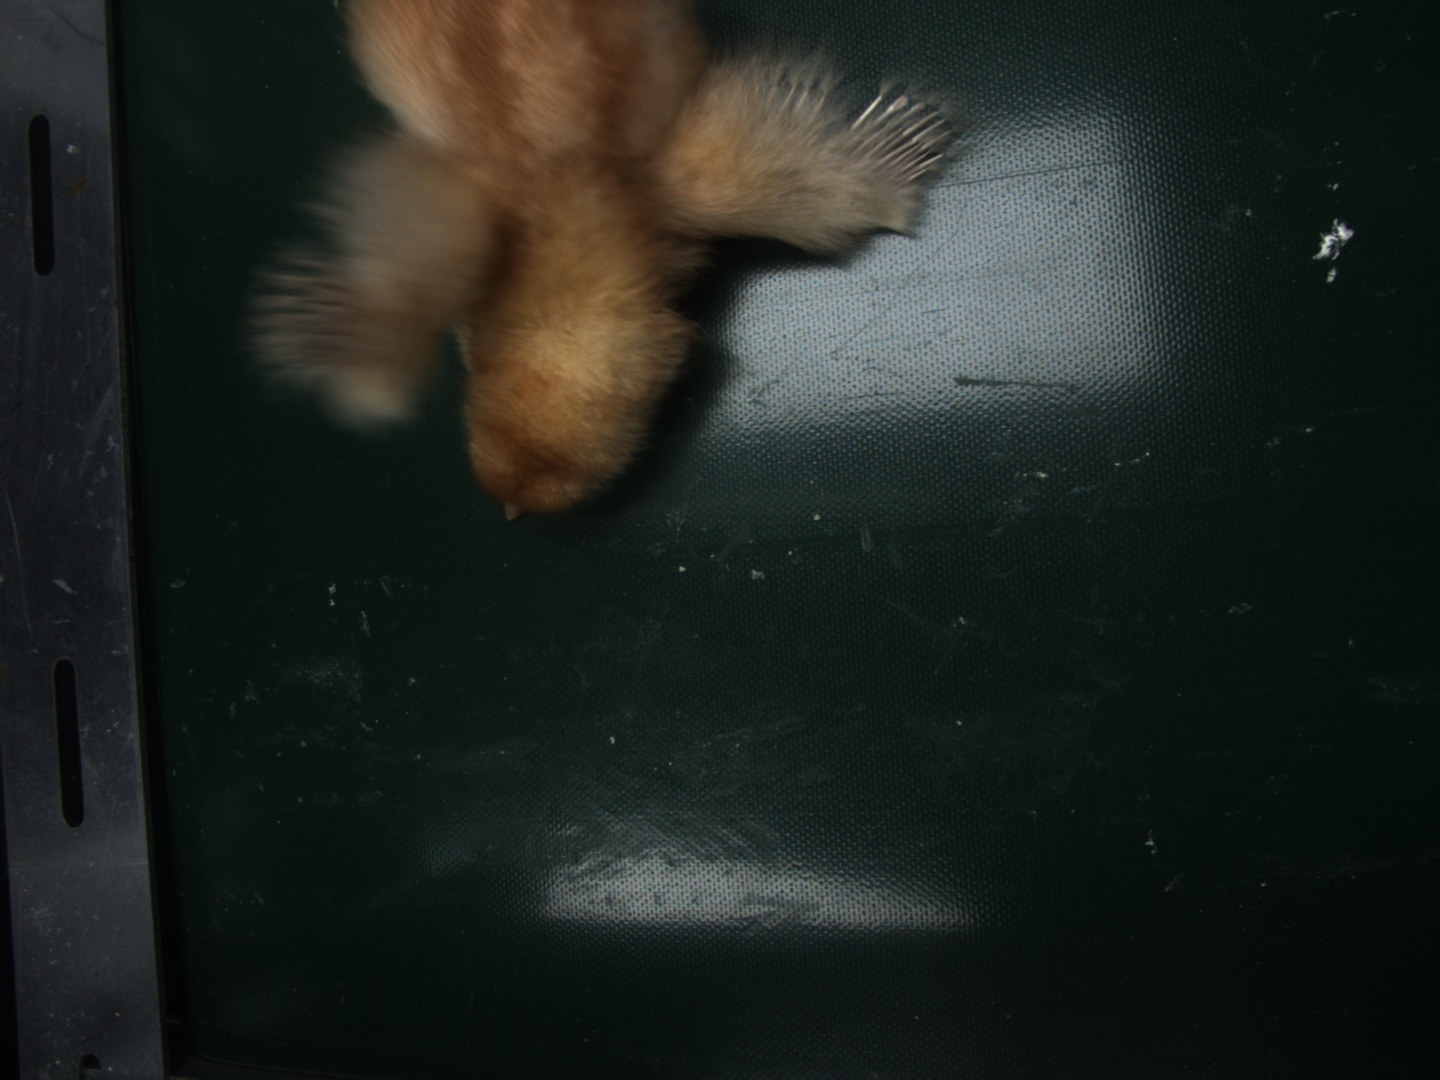female: (847, 94, 954, 191)
